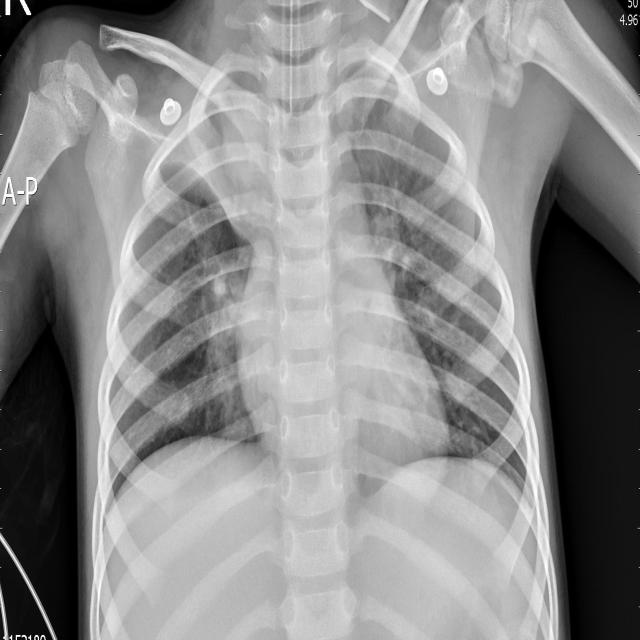high-pneumonia: (178, 65, 271, 250)
low-pneumonia: (195, 243, 254, 439), (363, 165, 436, 322), (339, 39, 413, 165)
